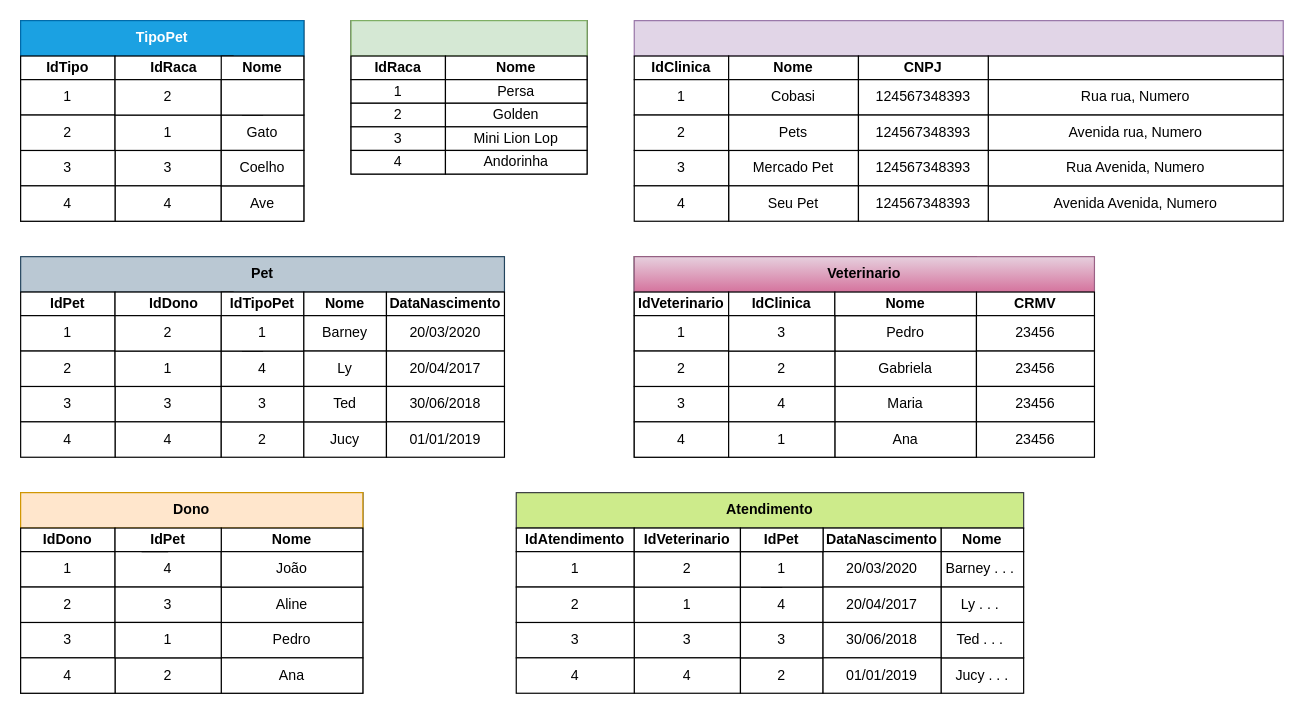
Some shapes in this 1304 by 714 pixel diagram are drawn without their labels. Each missing label, with the box of its shape:
Clinica: (633, 19, 1283, 56)
Cão: (220, 78, 304, 115)
Endereço: (987, 55, 1283, 80)
RacaPet: (350, 19, 587, 56)
